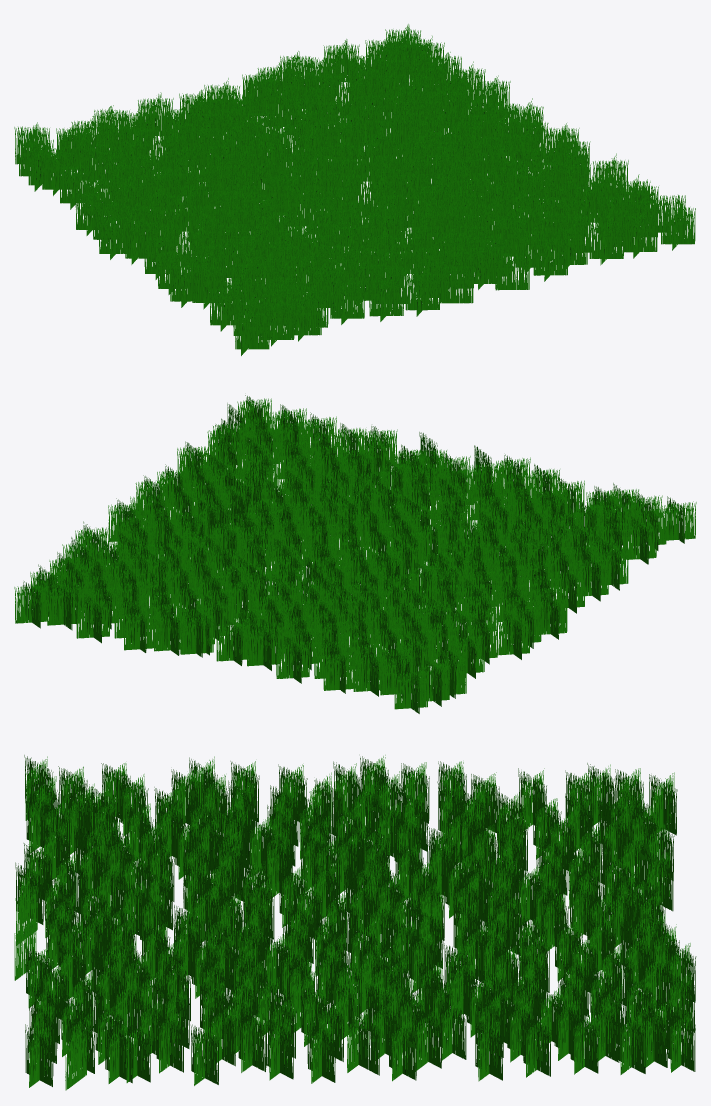
Rendered from dense_grass_large.fbx.
3 renders of one model, top to bottom at view 1: azimuth 30°, elevation 25°; view 2: azimuth 150°, elevation 25°; view 3: azimuth 270°, elevation 25°, orthographic. The views are drawn at different scales.
Visible parts, largest first — view 1: oldgrassPQ#2; view 2: oldgrassPQ#2; view 3: oldgrassPQ#2.
Part boxes in pixels (x1=…): oldgrassPQ#2: x1=14, y1=24, x2=695, y2=355; oldgrassPQ#2: x1=14, y1=395, x2=696, y2=713; oldgrassPQ#2: x1=14, y1=755, x2=696, y2=1090.
Size of the model in its own units: 4.26 by 0.4 by 4.24.
1 material, 1 textured.
